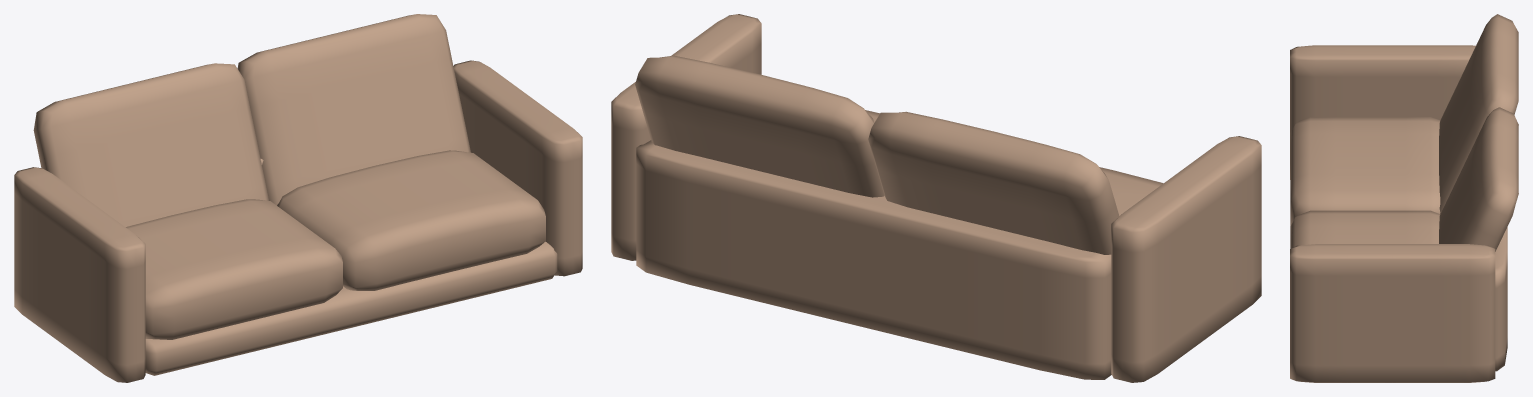
File: leather-sofa-transformed.glb
The picture shows the model from 3 angles, left to right: view 1: azimuth 30°, elevation 25°; view 2: azimuth 150°, elevation 25°; view 3: azimuth 270°, elevation 25°; orthographic projection. The views are drawn at different scales.
Parts seen in each view (by area): view 1: Cube 63.008, Cube 63.007, Cube 59.004, Cube 60.005, Cube 65.002, Cube 64.002, Cube 67.001; view 2: Cube 66, Cube 65.002, Cube 63.007, Cube 63.008, Cube 67.001, Cube 60.005; view 3: Cube 67.001, Cube 60.005, Cube 65.002, Cube 63.008, Cube 63.007, Cube 59.004, Cube 66.
Boxes of the visible parts, x1,y1,x2,y2 form: Cube 63.008: [237, 14, 470, 205]; Cube 63.007: [33, 63, 268, 226]; Cube 59.004: [277, 150, 545, 290]; Cube 60.005: [126, 199, 342, 339]; Cube 65.002: [14, 167, 145, 382]; Cube 64.002: [145, 241, 557, 375]; Cube 67.001: [453, 60, 582, 276]; Cube 66: [636, 140, 1111, 379]; Cube 65.002: [1111, 136, 1261, 382]; Cube 63.007: [868, 111, 1119, 254]; Cube 63.008: [635, 55, 884, 197]; Cube 67.001: [611, 14, 761, 260]; Cube 60.005: [1099, 167, 1163, 215]; Cube 67.001: [1290, 244, 1495, 382]; Cube 60.005: [1290, 117, 1440, 225]; Cube 65.002: [1290, 45, 1475, 179]; Cube 63.008: [1439, 107, 1518, 251]; Cube 63.007: [1439, 14, 1518, 214]; Cube 59.004: [1290, 210, 1440, 248]; Cube 66: [1495, 227, 1507, 371].
Size of the model in its own units: 2.23 by 0.8821 by 1.01.
